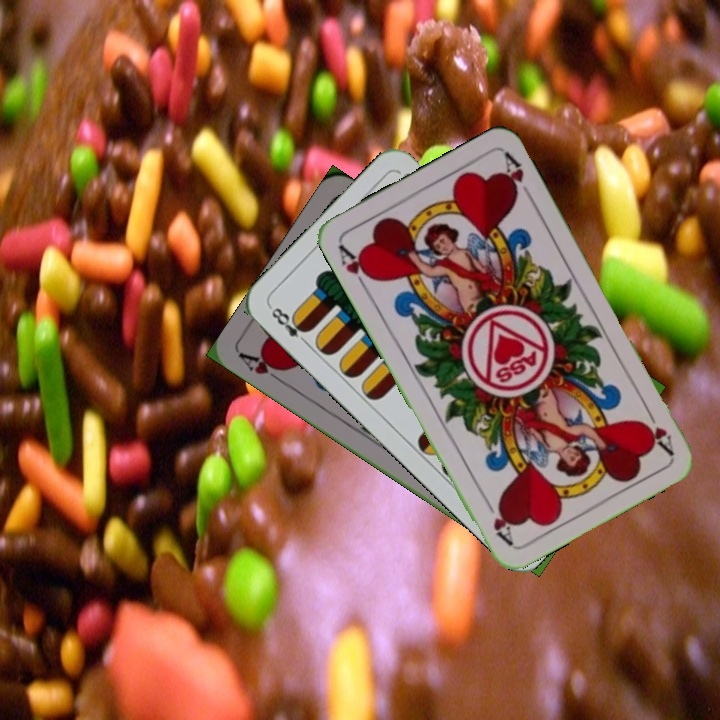E8: (265, 303, 312, 348)
HA: (334, 240, 377, 294), (637, 402, 677, 457), (235, 348, 289, 388)
